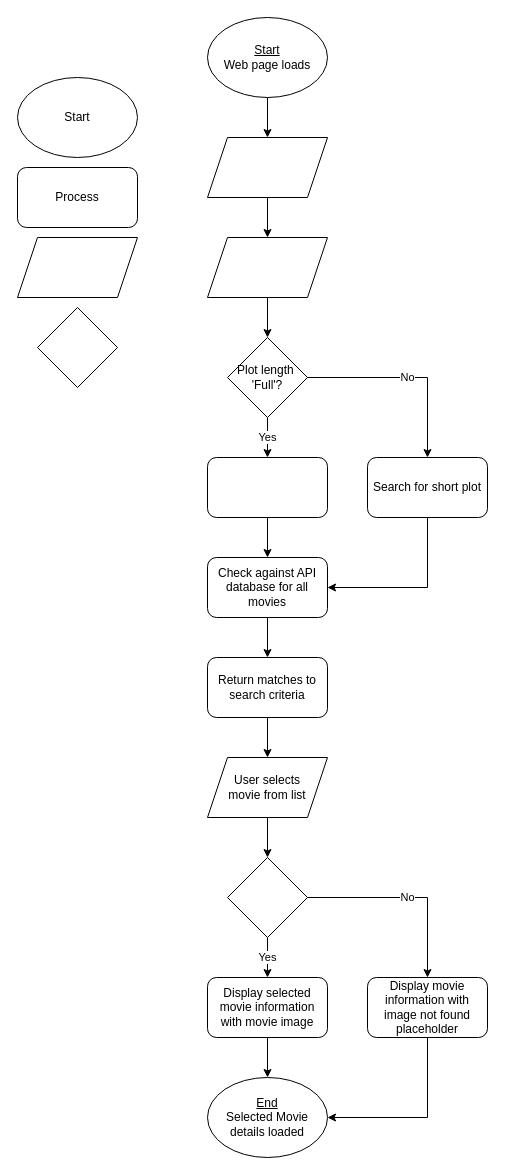
Some shapes in this 505 by 1175 pixel diagram are drawn without their labels. Each missing label, with the box of its shape:
Amend URL to search for full plot: (206, 456, 328, 518)
Data: (16, 236, 138, 298)
Decision: (36, 306, 118, 388)
Image supplied?: (226, 856, 308, 938)
User enters movie name: (206, 236, 328, 298)
User selects desired plot length: (206, 136, 328, 198)
